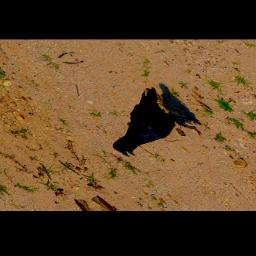Crow: (66, 86, 221, 158)
